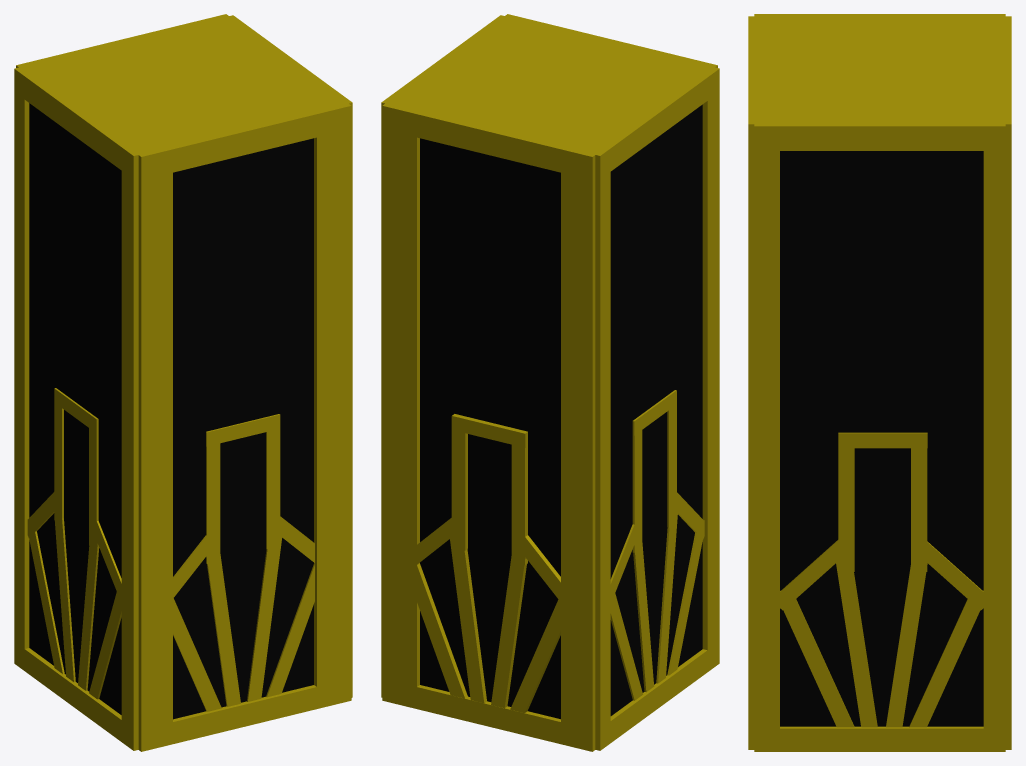
File: GoldPillar.fbx
The picture shows the model from 3 angles, left to right: view 1: azimuth 30°, elevation 25°; view 2: azimuth 150°, elevation 25°; view 3: azimuth 270°, elevation 25°; orthographic projection. The views are drawn at different scales.
Parts seen in each view (by area): view 1: pCube1, pasted__pasted__pasted__pCube6 (×2), pasted__pasted__pasted__pasted__pCube6 (×2), pasted__pasted__pasted__pasted__pCube2, pasted__pasted__pCube5, pasted__pasted__pasted__pCube3, pasted__pasted__pasted__pCube2, pasted__pasted__pasted__pasted__pasted__pCube6, pasted__pasted__pCube6, pasted__pasted__pCube3, pasted__pCube5, pasted__pasted__pasted__pasted__pasted__pasted__pCube5 (+5 smaller); view 2: pCube1, pasted__pasted__pasted__pCube2 (×2), pasted__pasted__pCube3 (×2), pasted__pasted__pCube8, pasted__pCube6, pasted__pasted__pasted__pCube7, pasted__pasted__pasted__pasted__pCube7, pasted__pasted__pCube6, pasted__pasted__pasted__pasted__pasted__pCube5 (×2), pasted__pasted__pasted__pCube4 (×2), pasted__pCube5, pasted__pasted__pasted__pasted__pCube6 (+3 smaller); view 3: pCube1, pasted__pCube2, pasted__pasted__pCube2, pasted__pCube3, pCube2, pasted__pasted__pasted__pCube5, pasted__pasted__pCube5, pasted__pasted__pasted__pasted__pCube5, pasted__pCube4, pasted__pasted__pCube4.
Part boxes in pixels (x1,y1,x2,y2): pCube1: (14,14,352,751); pasted__pasted__pasted__pCube6 (×2): (89,416,283,701); pasted__pasted__pasted__pasted__pCube6 (×2): (54,391,280,549); pasted__pasted__pasted__pasted__pCube2: (205,538,240,706); pasted__pasted__pCube5: (266,563,314,697); pasted__pasted__pasted__pCube3: (173,597,221,711); pasted__pasted__pasted__pCube2: (54,509,75,682); pasted__pasted__pasted__pasted__pasted__pCube6: (206,432,220,563); pasted__pasted__pCube6: (78,541,99,690); pasted__pasted__pCube3: (27,519,64,674); pasted__pCube5: (89,586,121,699); pasted__pasted__pasted__pasted__pasted__pasted__pCube5: (206,414,280,446); pCube1: (381,14,719,751); pasted__pasted__pasted__pCube2 (×2): (491,540,654,708); pasted__pasted__pCube3 (×2): (510,592,642,712); pasted__pasted__pCube8: (448,526,486,703); pasted__pCube6: (417,563,467,698); pasted__pasted__pasted__pCube7: (451,418,467,550); pasted__pasted__pasted__pasted__pCube7: (511,432,527,565); pasted__pasted__pCube6: (656,506,678,683); pasted__pasted__pasted__pasted__pasted__pCube5 (×2): (451,390,676,447); pasted__pasted__pasted__pCube4 (×2): (515,524,634,603); pasted__pCube5: (667,520,704,675); pasted__pasted__pasted__pasted__pCube6: (632,418,642,552); pCube1: (748,14,1011,751); pasted__pCube2: (836,548,877,727); pasted__pasted__pCube2: (886,549,929,727); pasted__pCube3: (909,588,983,727); pCube2: (780,589,854,727); pasted__pasted__pasted__pCube5: (911,435,927,571); pasted__pasted__pCube5: (838,435,854,571); pasted__pasted__pasted__pasted__pCube5: (838,432,927,448); pasted__pCube4: (780,538,851,610); pasted__pasted__pCube4: (912,539,983,610).
Bounding box in the file's own units: 1.99 × 5.16 × 1.97.
